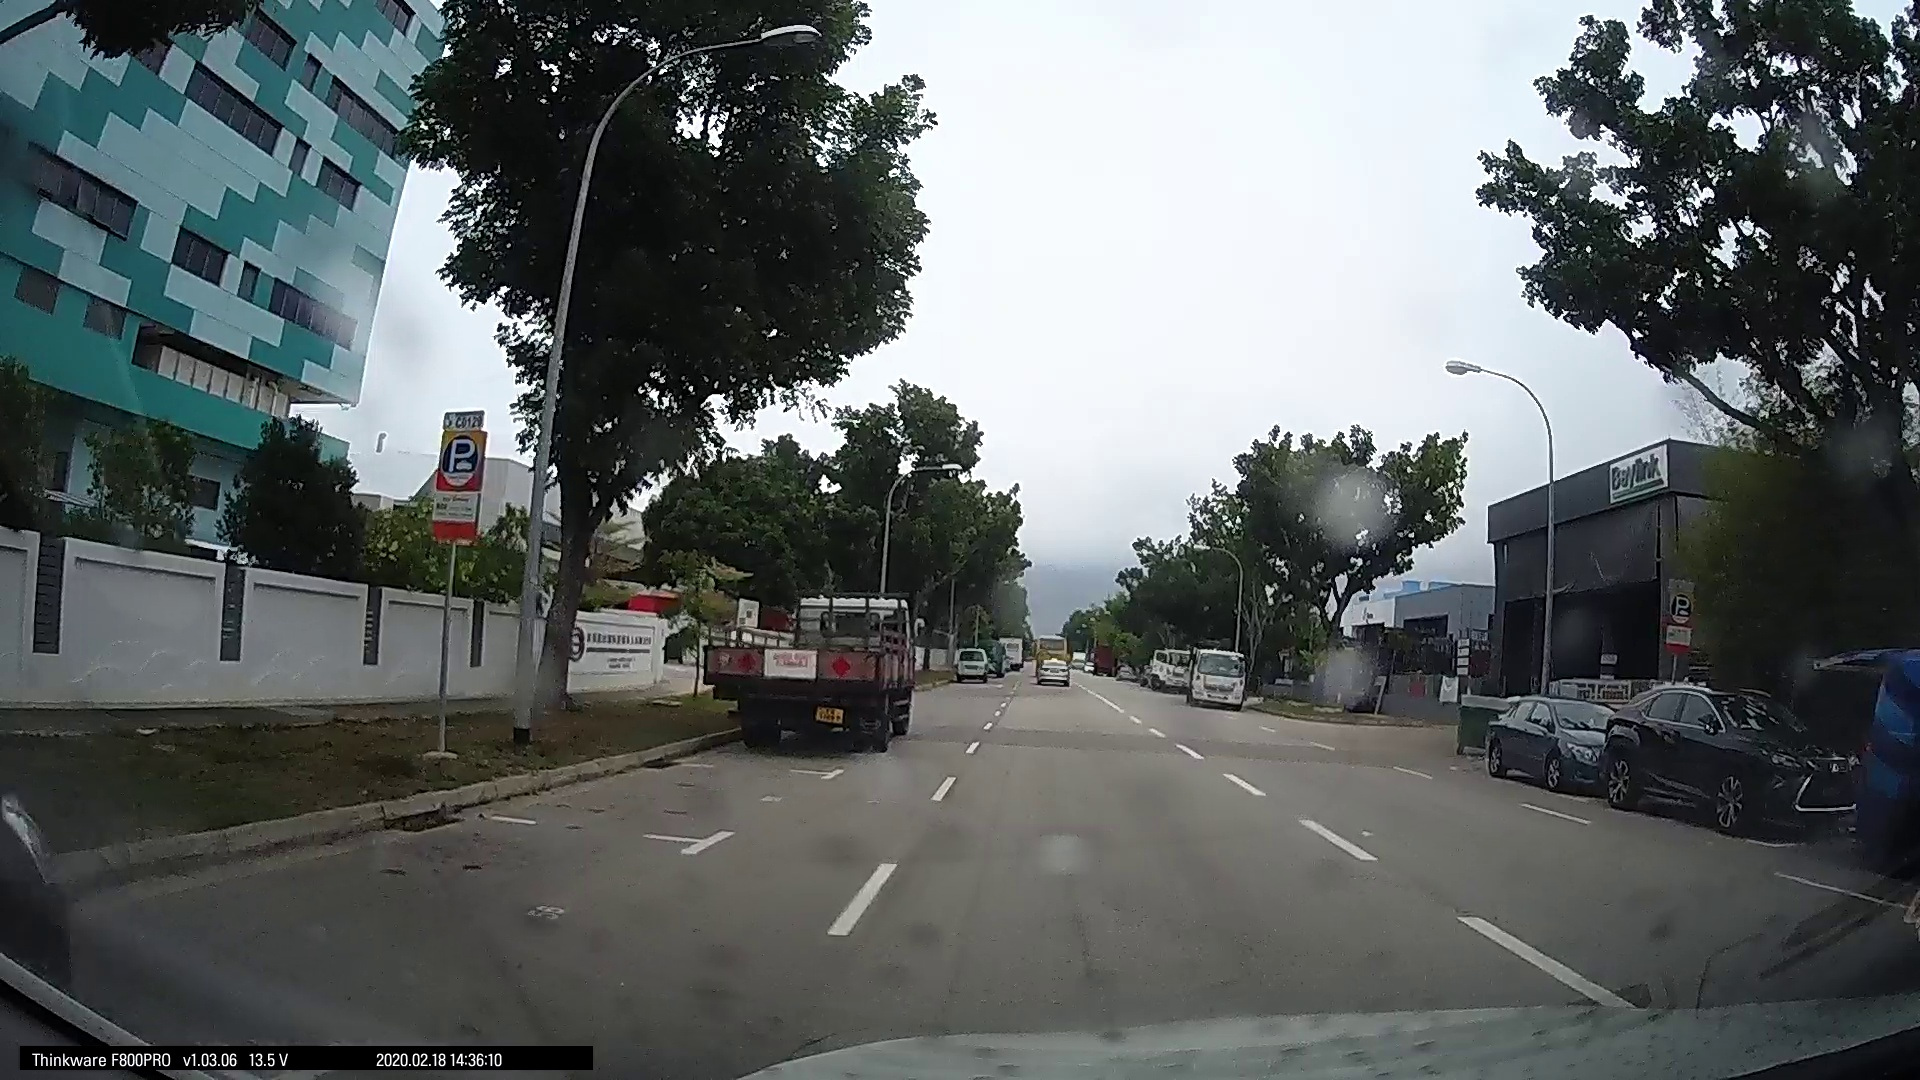Heavy Vehicle: (719, 582, 920, 752)
Light Vehicle: (1592, 678, 1861, 833), (1480, 688, 1613, 793), (1175, 644, 1247, 708), (948, 641, 994, 682), (1029, 645, 1069, 684)
